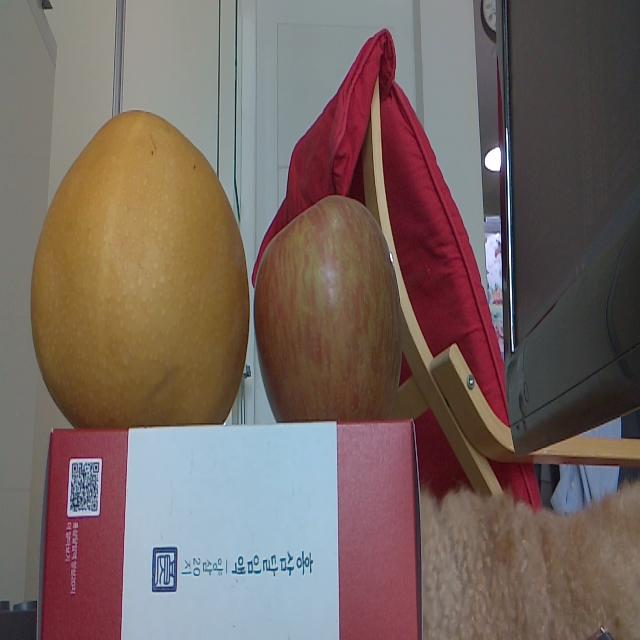apple: (254, 197, 403, 423)
pear: (31, 110, 249, 430)
